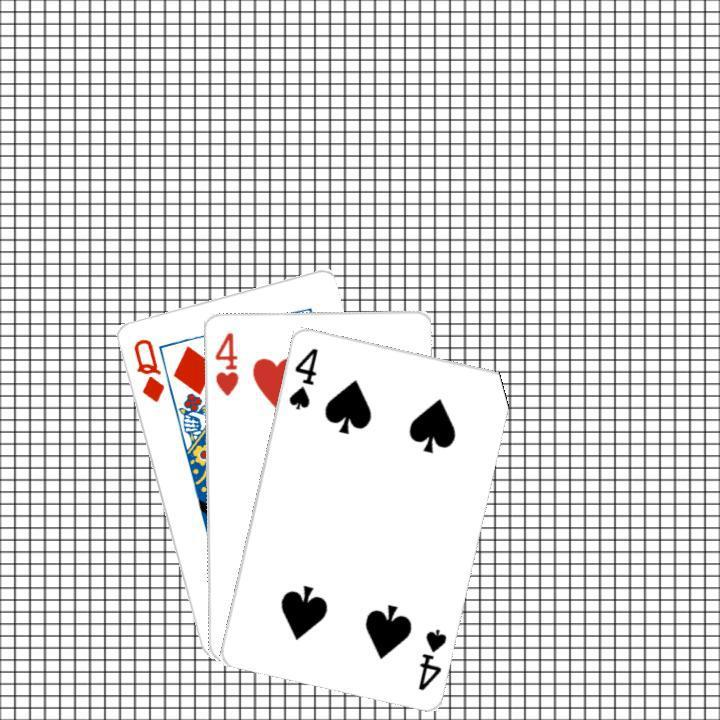4: (413, 624, 449, 692), (284, 343, 319, 411), (210, 328, 240, 397)
Q: (128, 334, 166, 404)
